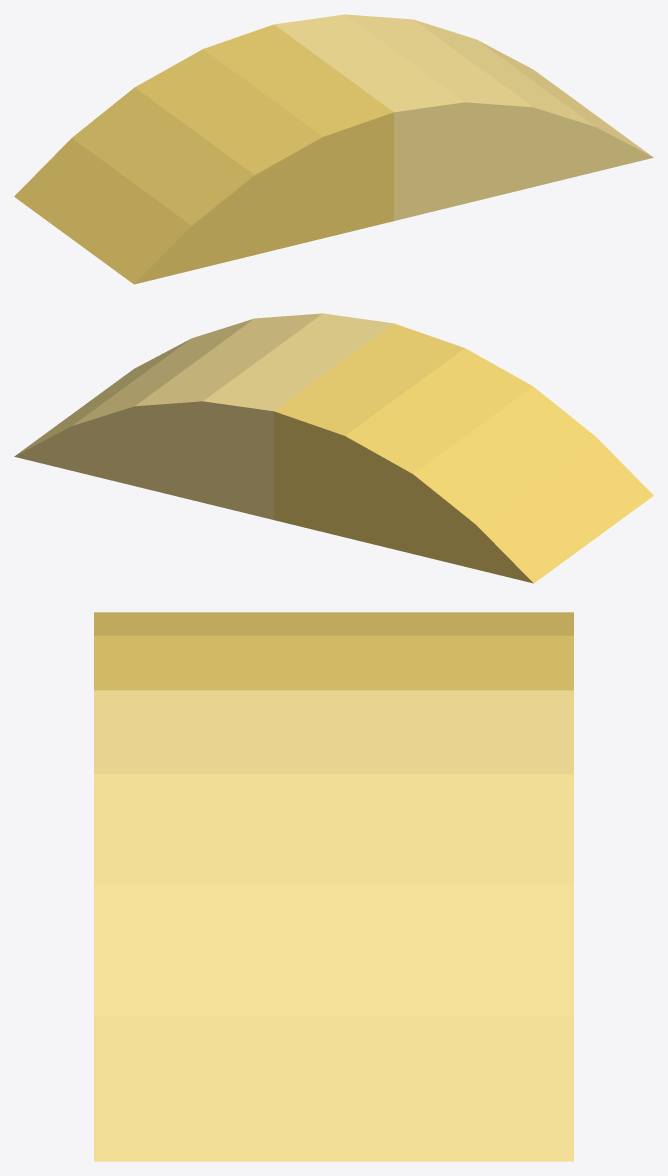
Rendered from island-circle-small.fbx.
The picture shows the model from 3 angles, top to bottom: view 1: azimuth 30°, elevation 25°; view 2: azimuth 150°, elevation 25°; view 3: azimuth 270°, elevation 25°; orthographic projection. The views are drawn at different scales.
Visible parts, largest first — view 1: Circle; view 2: Circle; view 3: Circle.
Part boxes in pixels (bbox=[...]): Circle: bbox=[14, 14, 653, 284]; Circle: bbox=[14, 313, 653, 583]; Circle: bbox=[94, 612, 573, 1161].
Size of the model in its own units: 100000 by 20000 by 40000.
